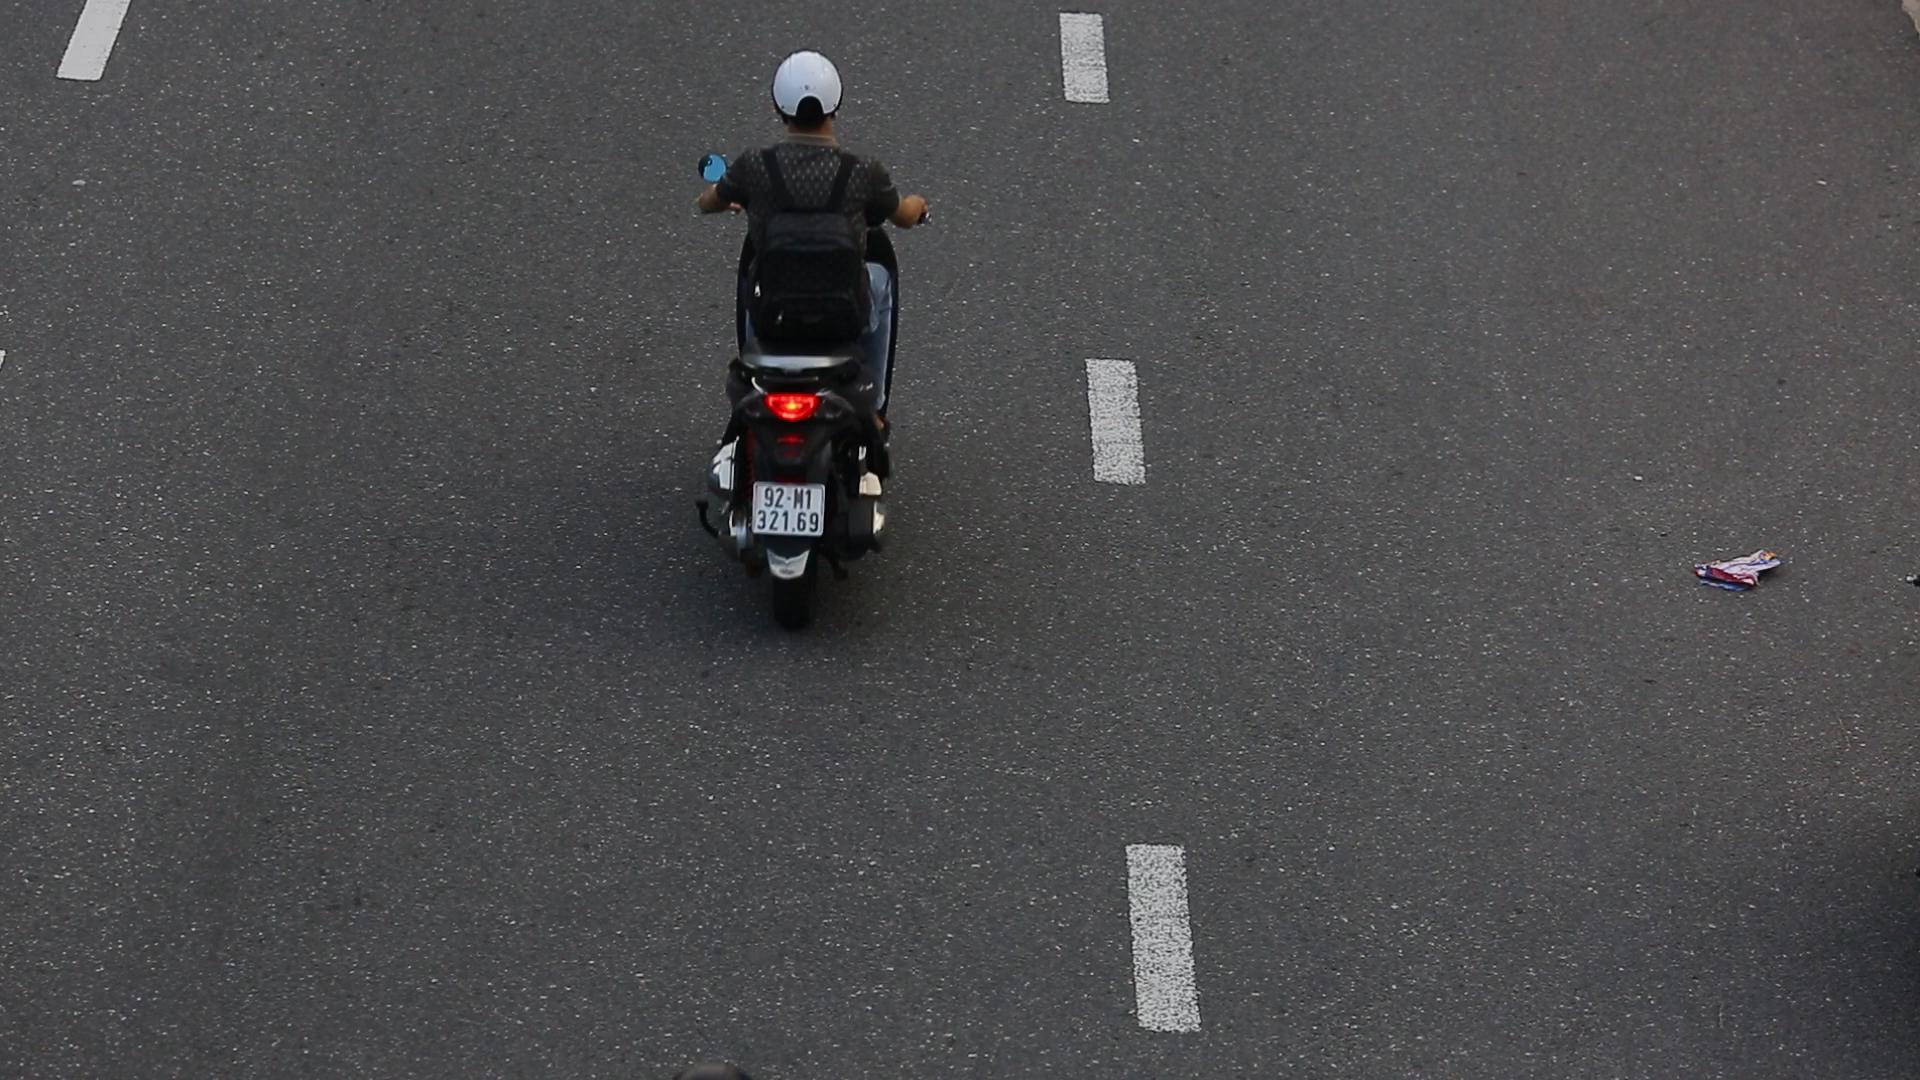motobike: (674, 24, 957, 678)
